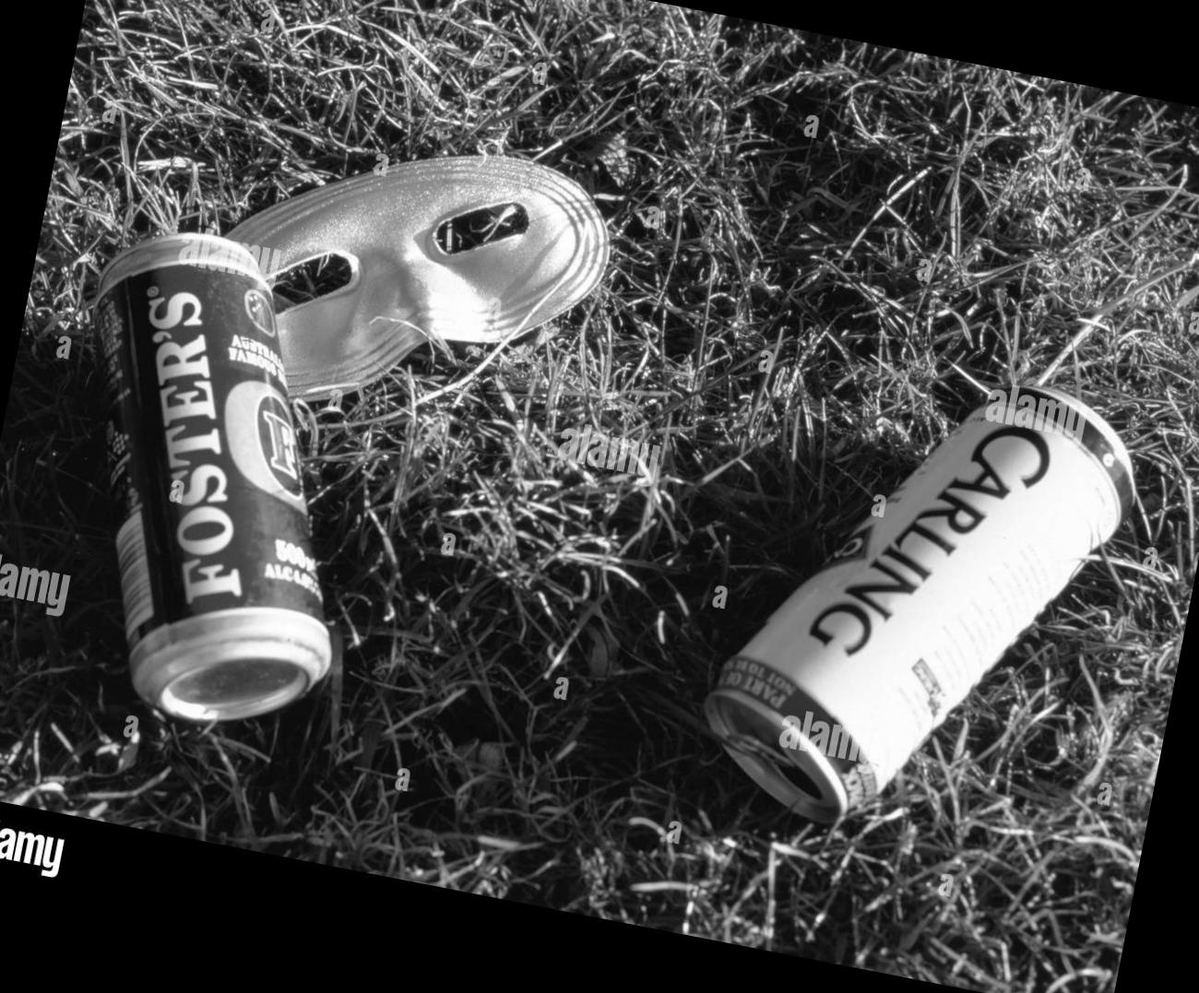metal: (645, 262, 1195, 896), (10, 213, 433, 770)
